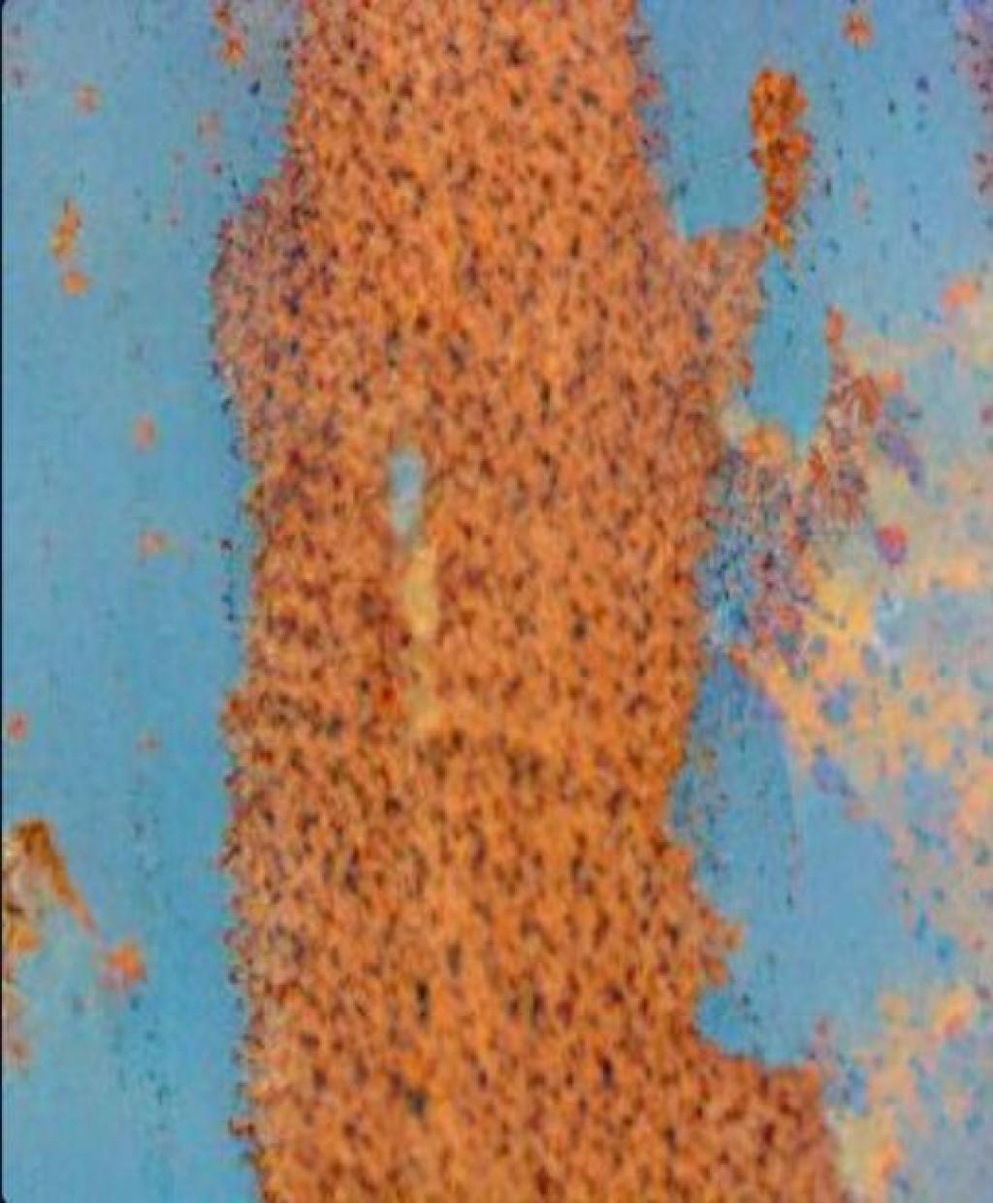corrosion: (209, 0, 861, 1203), (6, 812, 139, 1093)
